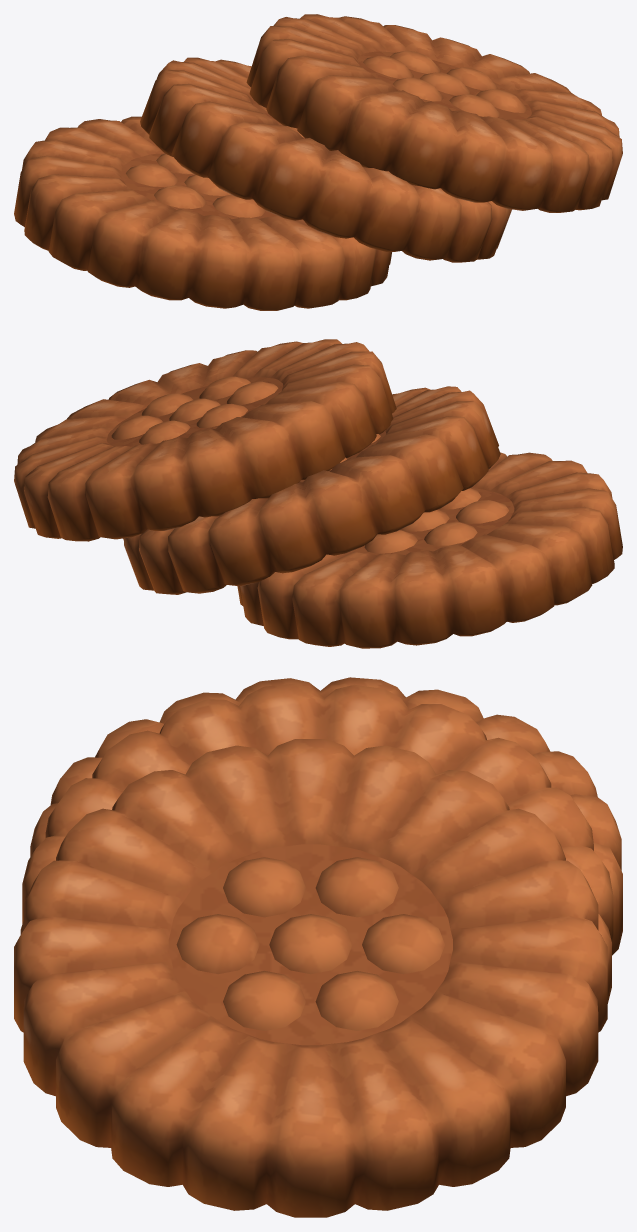
Rendered from Plate02.fbx.
The picture shows the model from 3 angles, top to bottom: view 1: azimuth 30°, elevation 25°; view 2: azimuth 150°, elevation 25°; view 3: azimuth 270°, elevation 25°; orthographic projection. The views are drawn at different scales.
Visible parts, largest first — view 1: Dessert02Plate; view 2: Dessert02Plate; view 3: Dessert02Plate.
Boxes of the visible parts, bbox=[...] form: Dessert02Plate: bbox=[14, 14, 622, 310]; Dessert02Plate: bbox=[14, 339, 622, 648]; Dessert02Plate: bbox=[14, 677, 622, 1217].
Size of the model in its own units: 26 by 8.94 by 15.95.
Materials: 1 (1 with a texture image).
